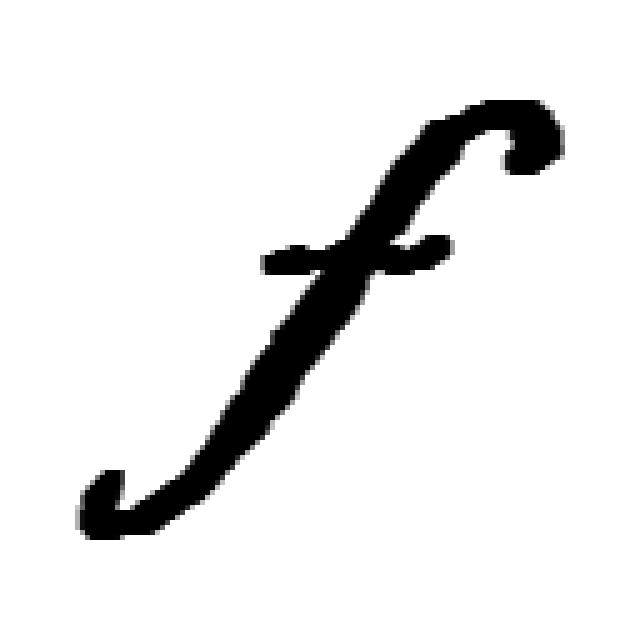F: (75, 100, 565, 540)
